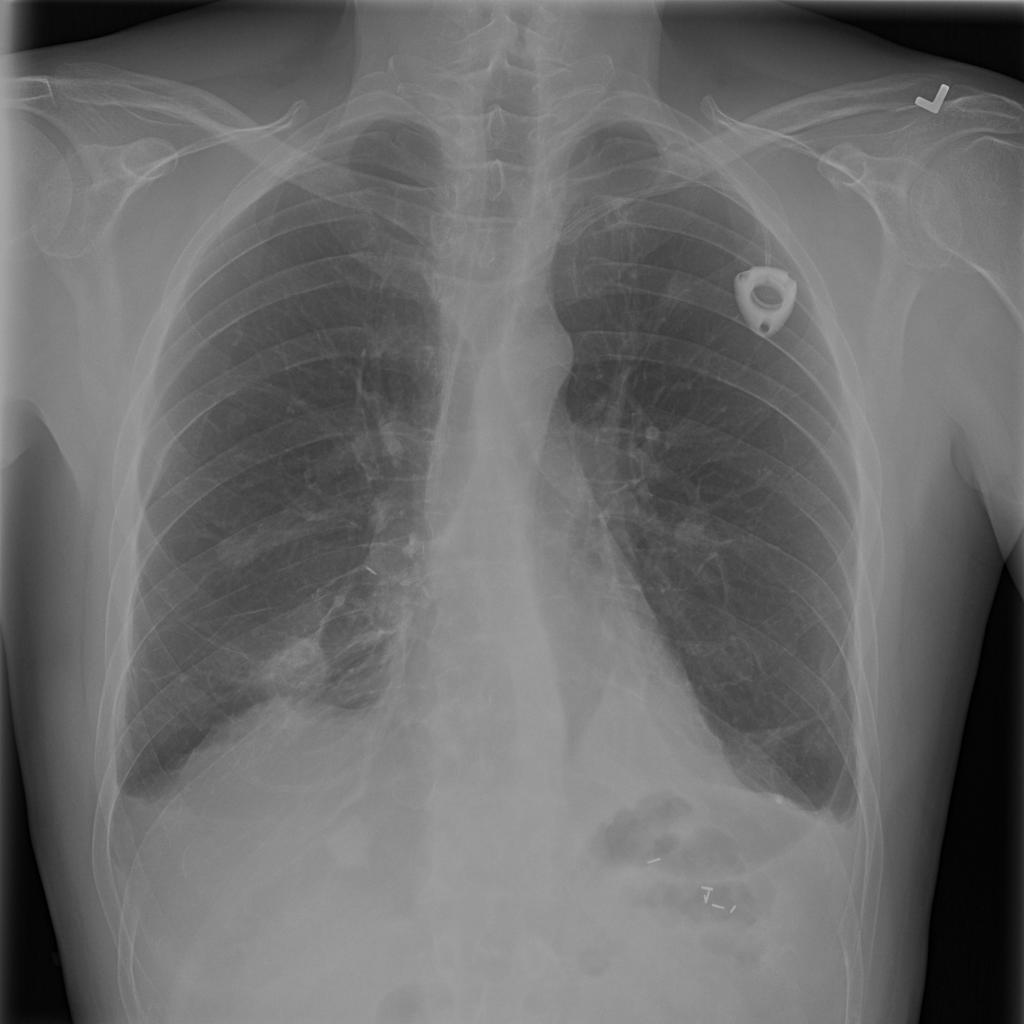nodule: (239, 620, 348, 723), (316, 800, 388, 882), (200, 515, 274, 583), (657, 501, 726, 570), (209, 391, 261, 440)
